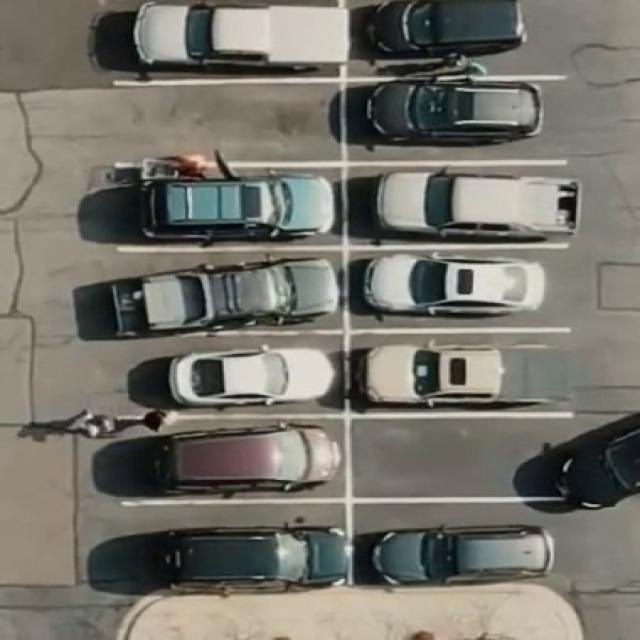empty: (116, 92, 332, 154), (356, 426, 552, 492)
notEmpty: (116, 2, 330, 74), (115, 516, 340, 584), (353, 171, 576, 239), (114, 174, 337, 240), (356, 86, 569, 155), (358, 339, 574, 406), (114, 258, 338, 322), (358, 2, 565, 70), (355, 256, 565, 323), (359, 512, 555, 582), (116, 431, 340, 490), (114, 349, 336, 407)
